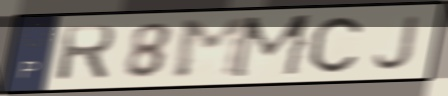8: (122, 20, 174, 81)
C: (307, 14, 365, 75)
J: (371, 12, 425, 72)
M: (228, 12, 318, 82), (171, 15, 252, 82)
R: (53, 22, 119, 83)
